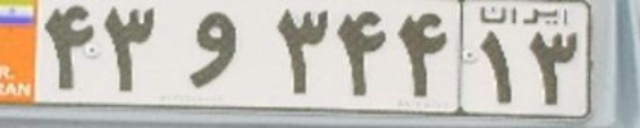1: (478, 29, 518, 102)
3: (273, 8, 332, 95), (101, 6, 158, 91), (525, 31, 579, 105)
4: (392, 10, 449, 99), (44, 4, 95, 90), (336, 9, 384, 96)
vav: (181, 9, 243, 88)
